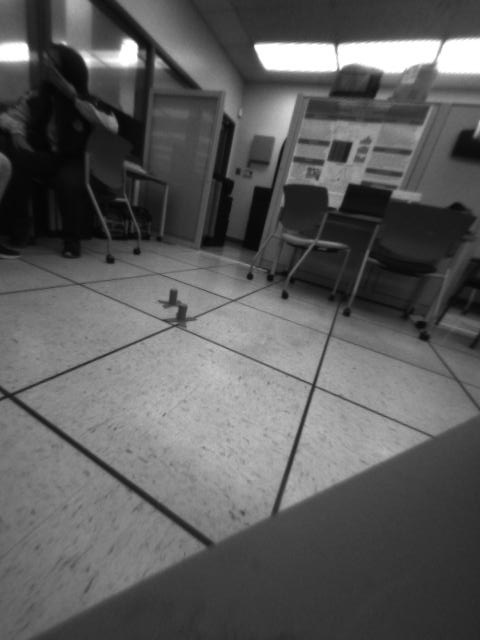X: (163, 305, 200, 333), (156, 288, 189, 311)
